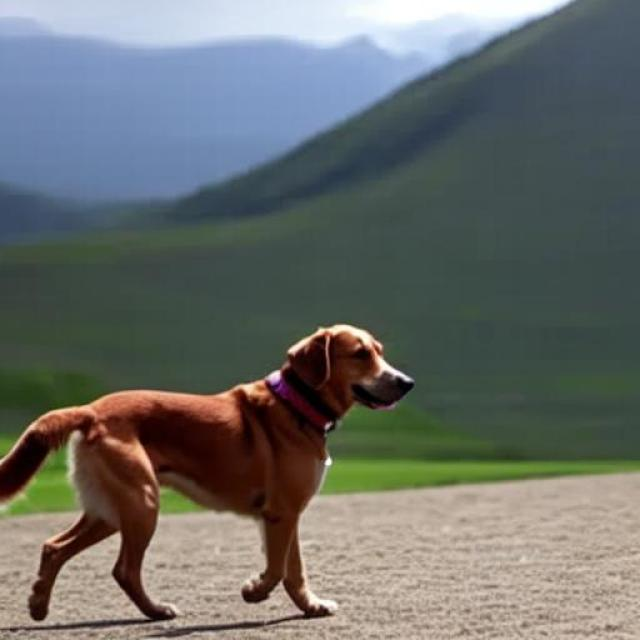Dog: (0, 320, 416, 620)
